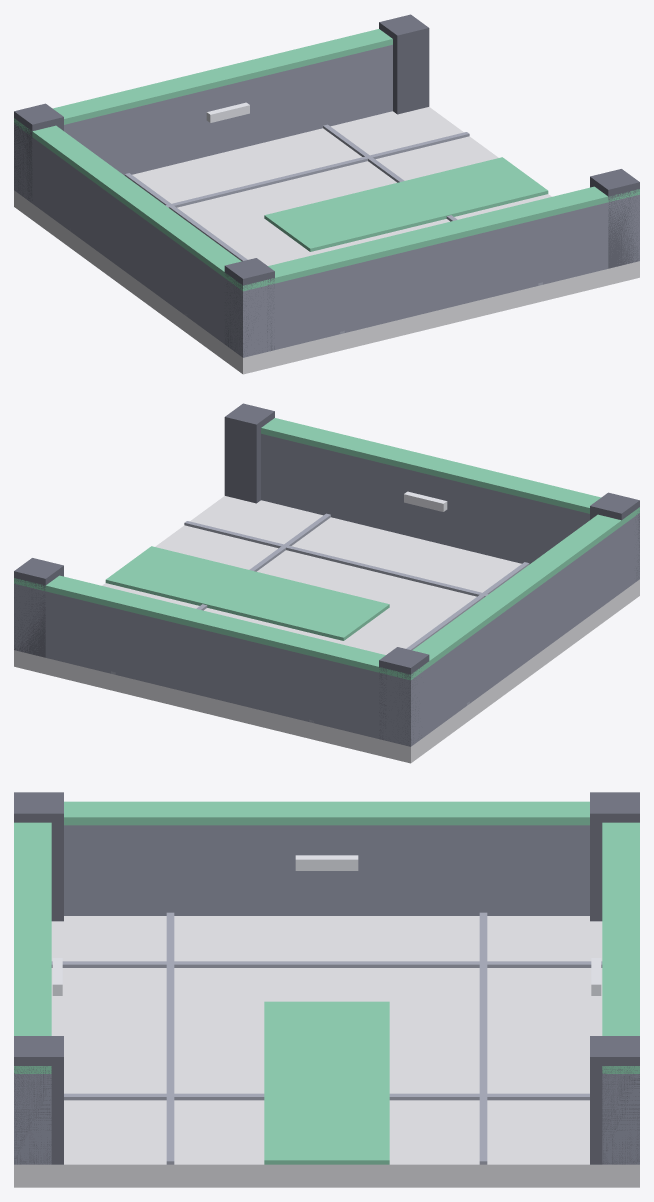
The model's file is walkway-1x1-end.glb.
The picture shows the model from 3 angles, top to bottom: view 1: azimuth 30°, elevation 25°; view 2: azimuth 150°, elevation 25°; view 3: azimuth 270°, elevation 25°; orthographic projection. The views are drawn at different scales.
Visible parts, largest first — view 1: walkway-1x1-end; view 2: walkway-1x1-end; view 3: walkway-1x1-end.
Boxes of the visible parts, box(x1,y1,x2,y2) form: walkway-1x1-end: box(14, 14, 639, 374); walkway-1x1-end: box(14, 403, 639, 763); walkway-1x1-end: box(14, 792, 639, 1187).
Bounding box in the file's own units: 1 × 0.23 × 1.
1 material, 1 textured.
